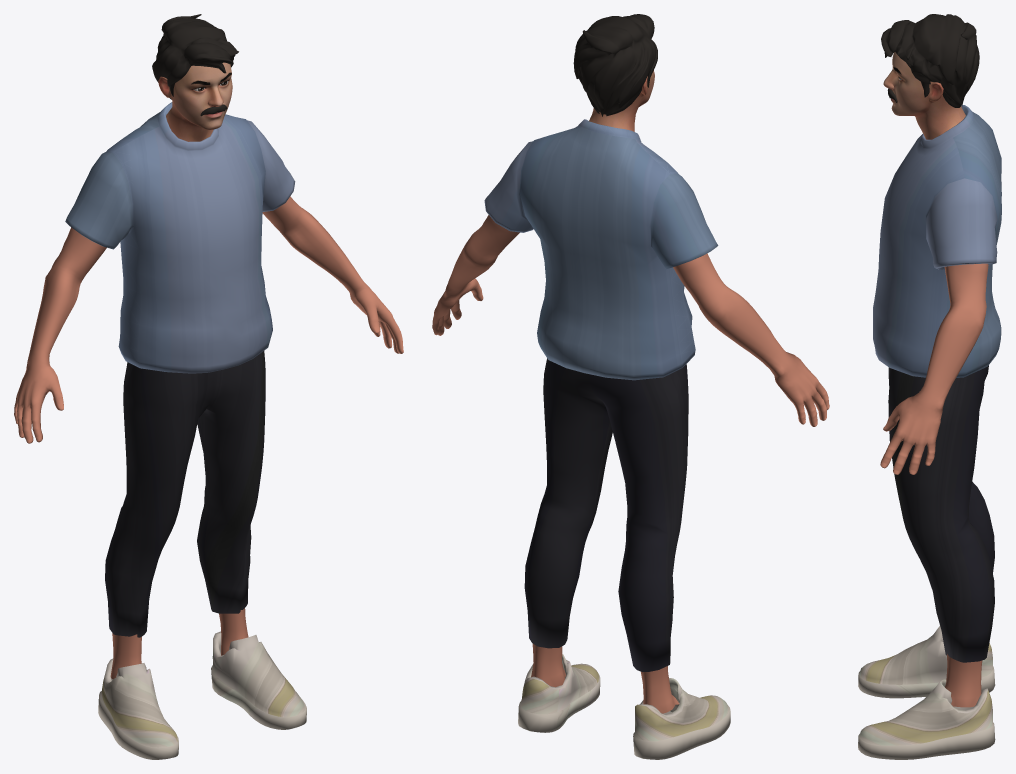
Rendered from character1.fbx.
3 views of the same model, side by side, from view 1: azimuth 30°, elevation 25°; view 2: azimuth 150°, elevation 25°; view 3: azimuth 270°, elevation 25° (orthographic).
Visible parts, largest first — view 1: Wolf3D_Outfit_Top, Wolf3D_Outfit_Bottom, Wolf3D_Body, Wolf3D_Outfit_Footwear, Wolf3D_Head, Wolf3D_Hair; view 2: Wolf3D_Outfit_Top, Wolf3D_Outfit_Bottom, Wolf3D_Body, Wolf3D_Outfit_Footwear, Wolf3D_Hair, Wolf3D_Head; view 3: Wolf3D_Outfit_Top, Wolf3D_Outfit_Bottom, Wolf3D_Outfit_Footwear, Wolf3D_Body, Wolf3D_Hair, Wolf3D_Head.
Boxes of the visible parts, x1,y1,x2,y2 form: Wolf3D_Outfit_Top: (65, 102, 295, 373); Wolf3D_Outfit_Bottom: (105, 351, 265, 637); Wolf3D_Body: (14, 196, 403, 679); Wolf3D_Outfit_Footwear: (98, 631, 306, 759); Wolf3D_Head: (158, 62, 232, 141); Wolf3D_Hair: (152, 14, 238, 99); Wolf3D_Outfit_Top: (484, 119, 718, 380); Wolf3D_Outfit_Bottom: (524, 358, 688, 672); Wolf3D_Body: (432, 215, 829, 713); Wolf3D_Outfit_Footwear: (518, 654, 730, 759); Wolf3D_Hair: (573, 14, 657, 116); Wolf3D_Head: (589, 70, 654, 131); Wolf3D_Outfit_Top: (873, 105, 1001, 377); Wolf3D_Outfit_Bottom: (888, 365, 994, 662); Wolf3D_Outfit_Footwear: (858, 626, 995, 759); Wolf3D_Body: (880, 263, 988, 707); Wolf3D_Hair: (881, 14, 979, 107); Wolf3D_Head: (883, 52, 965, 139).
Bounding box in the file's own units: 1.06 × 1.87 × 0.3485.
Materials: 9 (9 with a texture image).
